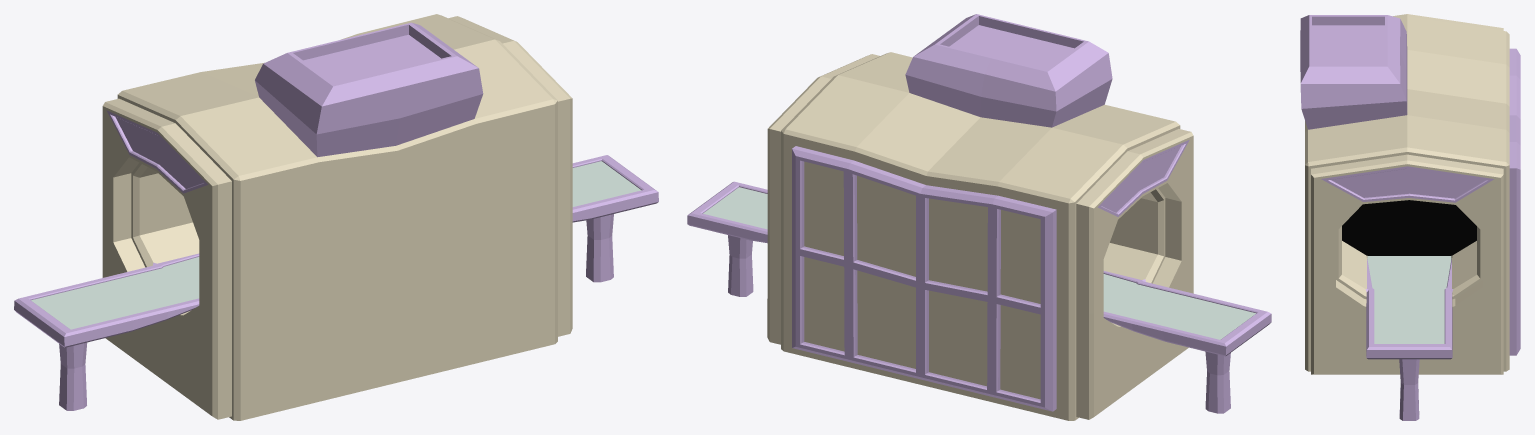
The model's file is candyMaker.fbx.
The picture shows the model from 3 angles, left to right: view 1: azimuth 30°, elevation 25°; view 2: azimuth 150°, elevation 25°; view 3: azimuth 270°, elevation 25°; orthographic projection. The views are drawn at different scales.
Parts seen in each view (by area): view 1: Cube.039; view 2: Cube.039; view 3: Cube.039.
Part boxes in pixels (x1,y1,x2,y2): Cube.039: (14, 14, 658, 420); Cube.039: (687, 14, 1271, 420); Cube.039: (1300, 14, 1520, 420).
Bounding box in the file's own units: 864 × 435 × 326.
